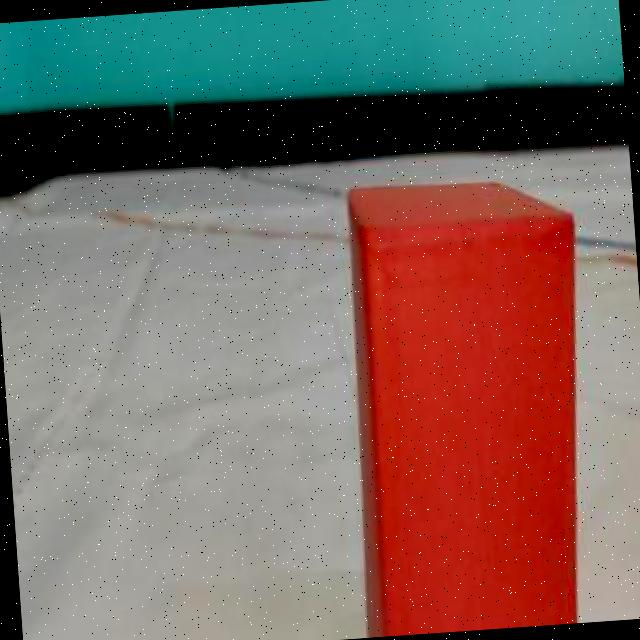redbox: (334, 168, 598, 638)
